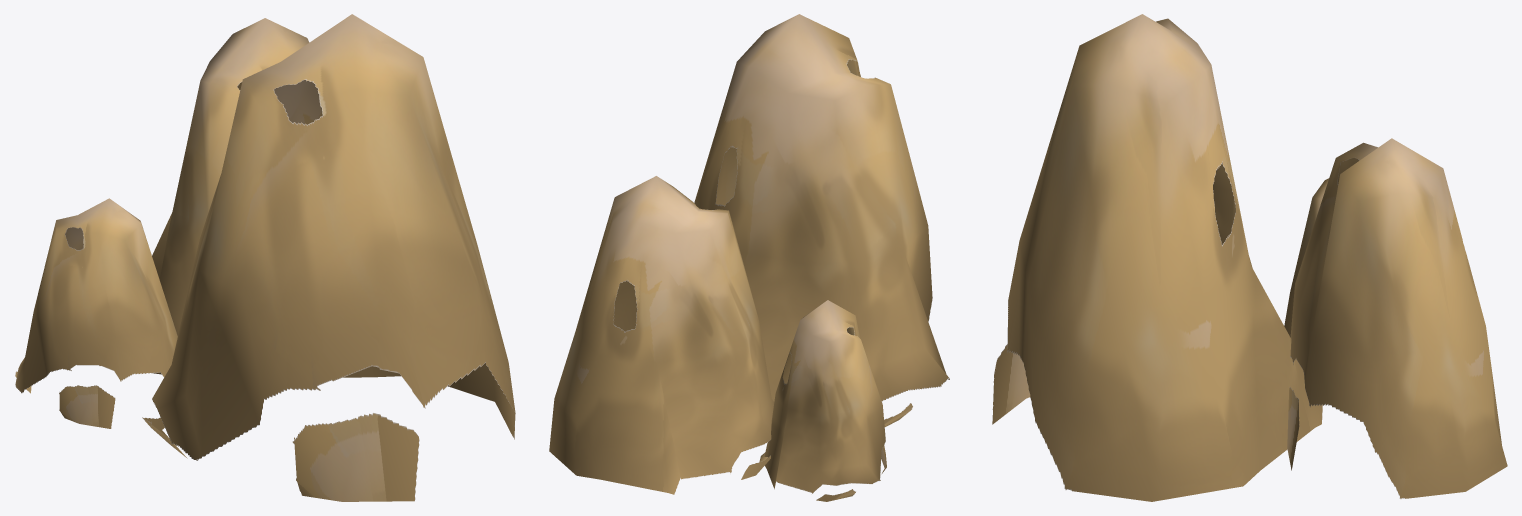
The model's file is BigRock.fbx.
3 views of the same model, side by side, from view 1: azimuth 30°, elevation 25°; view 2: azimuth 150°, elevation 25°; view 3: azimuth 270°, elevation 25° (orthographic). The views are drawn at different scales.
Parts seen in each view (by area): view 1: Cube; view 2: Cube; view 3: Cube.
Part boxes in pixels (x1,y1,x2,y2): Cube: [15, 14, 515, 501]; Cube: [549, 14, 949, 501]; Cube: [992, 14, 1507, 501].
Size of the model in its own units: 11.65 by 12.95 by 14.75.
